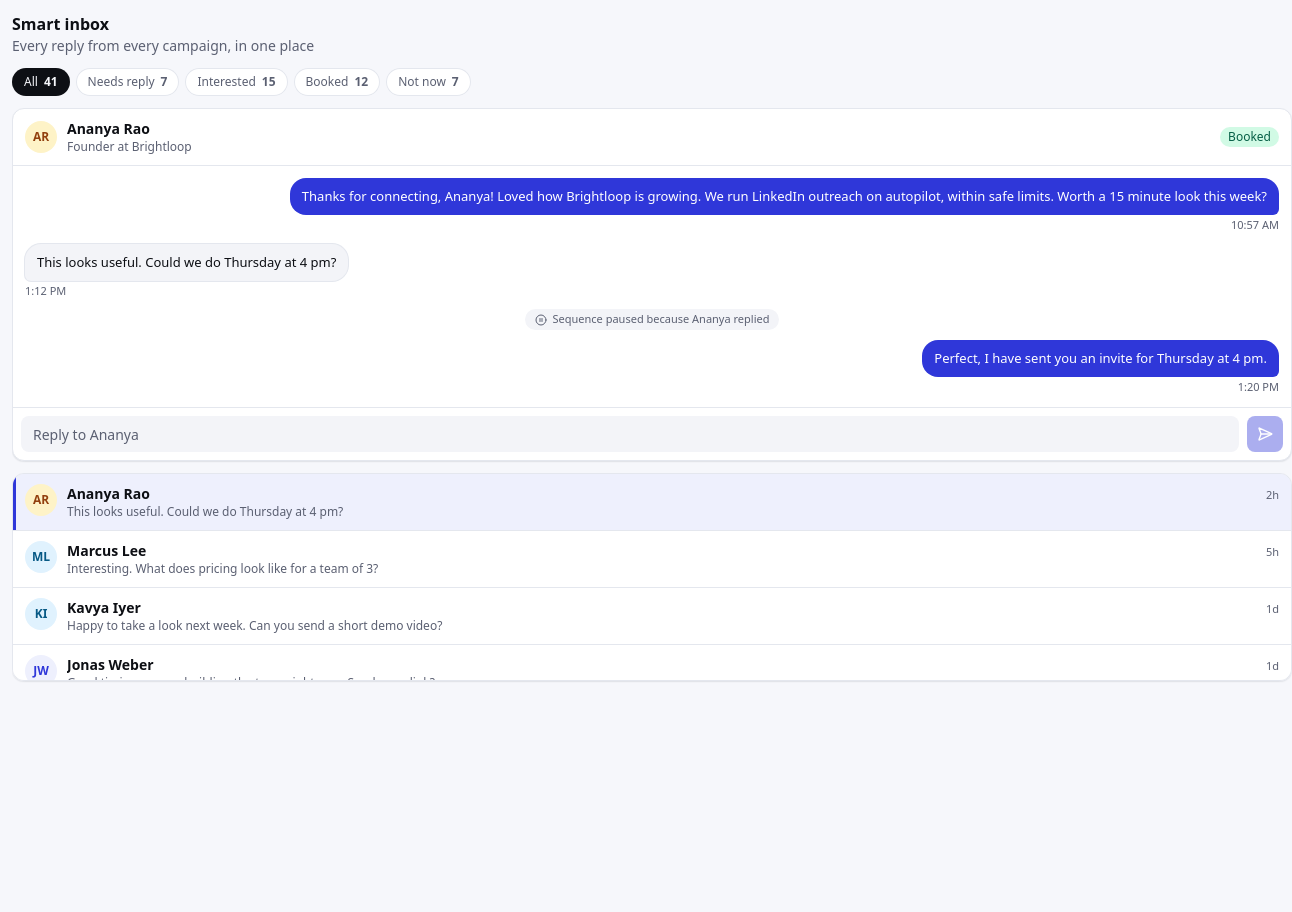
Test case: InboxPanel › sends a reply into the open conversation
Type "See you Thursday!" into the field named "Reply to Ananya Rao".
click(630, 434); type("See you Thursday!")  # box [21, 416, 1239, 452]
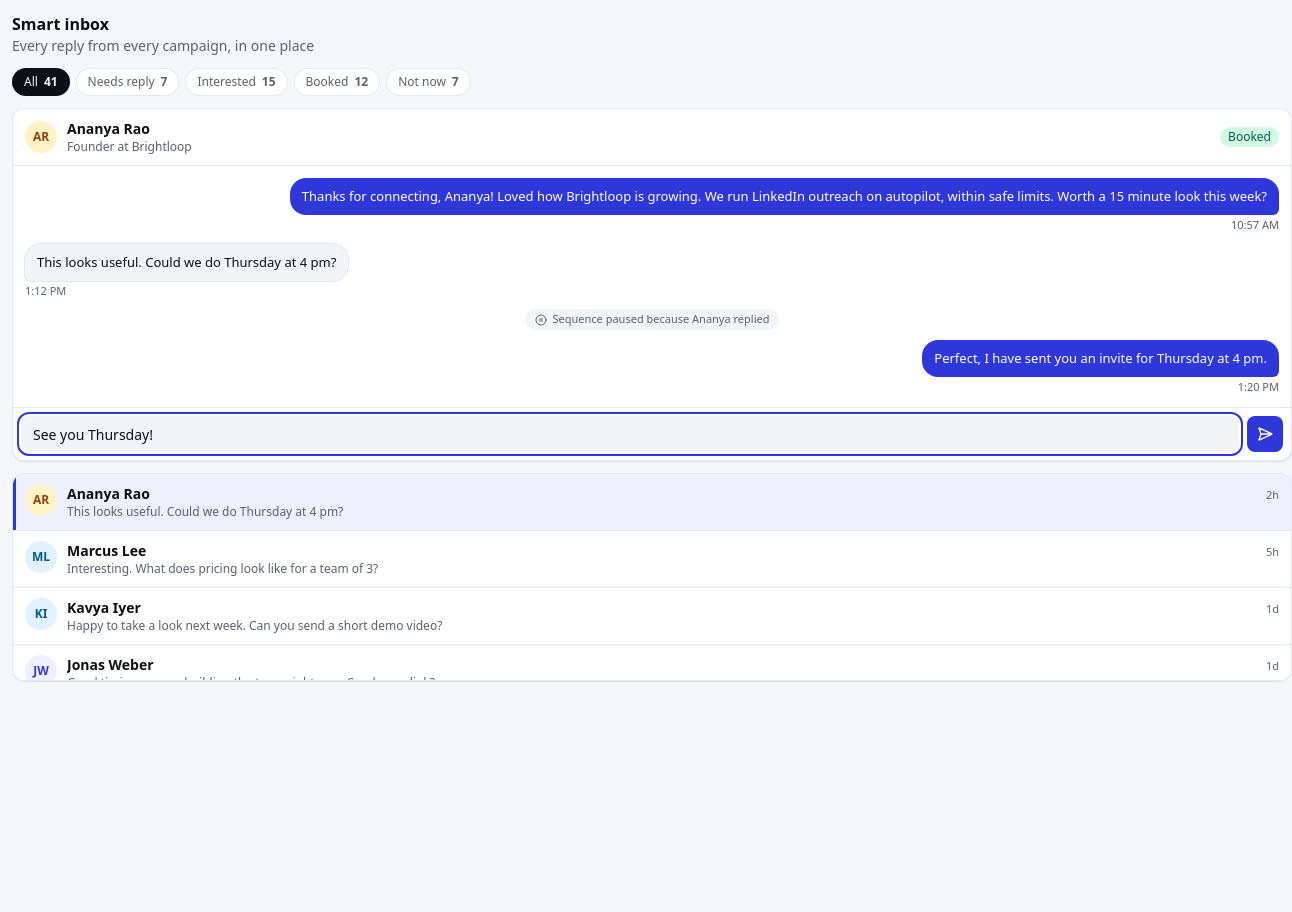
Click the button named "Send reply".
click(1265, 434)  # box [1247, 416, 1283, 452]
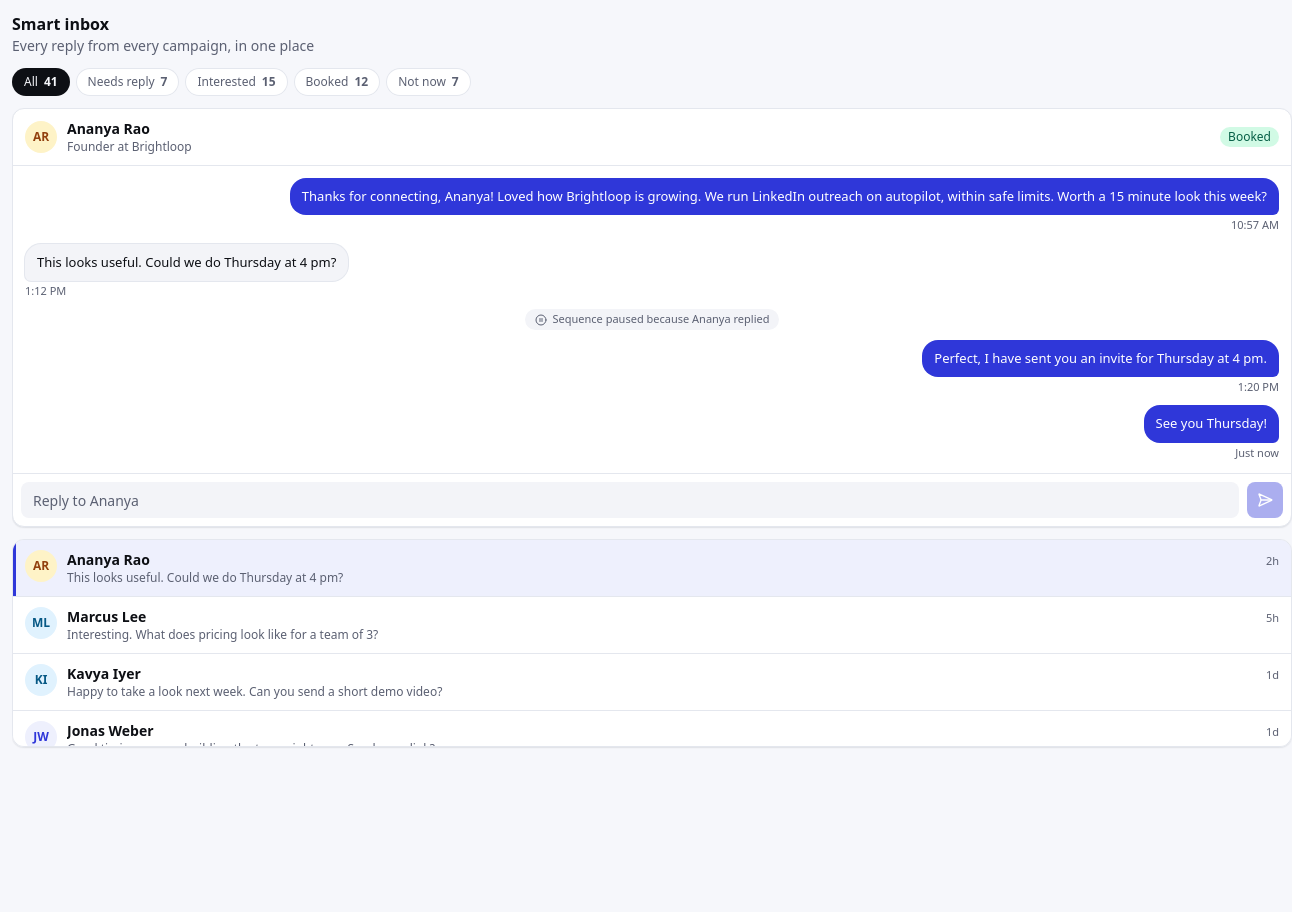
Check: the text "See you Thursday!" is shown, box [1144, 405, 1279, 442]
